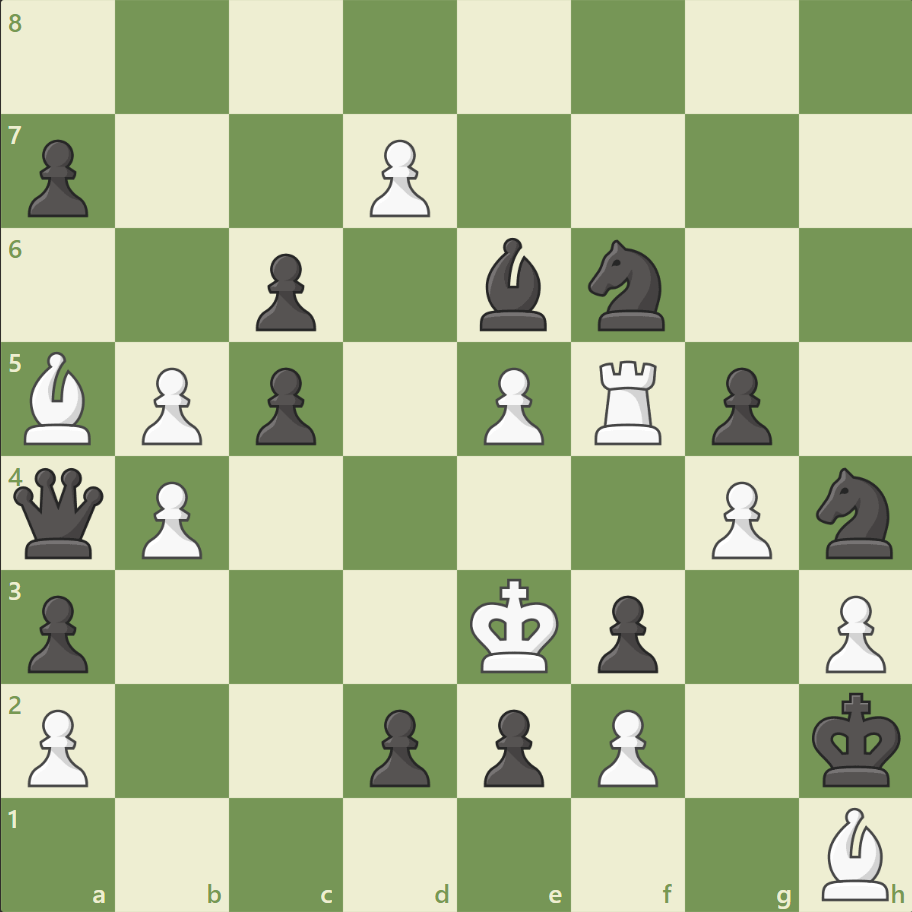B: (812, 801, 896, 904), (17, 347, 101, 449)
K: (465, 571, 565, 679)
P: (133, 359, 208, 450), (474, 359, 549, 450), (133, 473, 208, 564), (701, 473, 776, 564), (20, 700, 95, 791), (361, 132, 435, 223), (815, 586, 889, 677), (588, 700, 662, 791)
R: (587, 352, 670, 449)
b: (471, 233, 555, 336)
k: (806, 685, 906, 793)
n: (579, 234, 676, 337), (806, 461, 903, 564)
p: (20, 132, 95, 223), (247, 246, 322, 337), (247, 359, 322, 450), (701, 359, 776, 450), (20, 586, 95, 677), (474, 700, 549, 791), (588, 586, 662, 677), (361, 700, 435, 791)
q: (10, 463, 109, 562)
